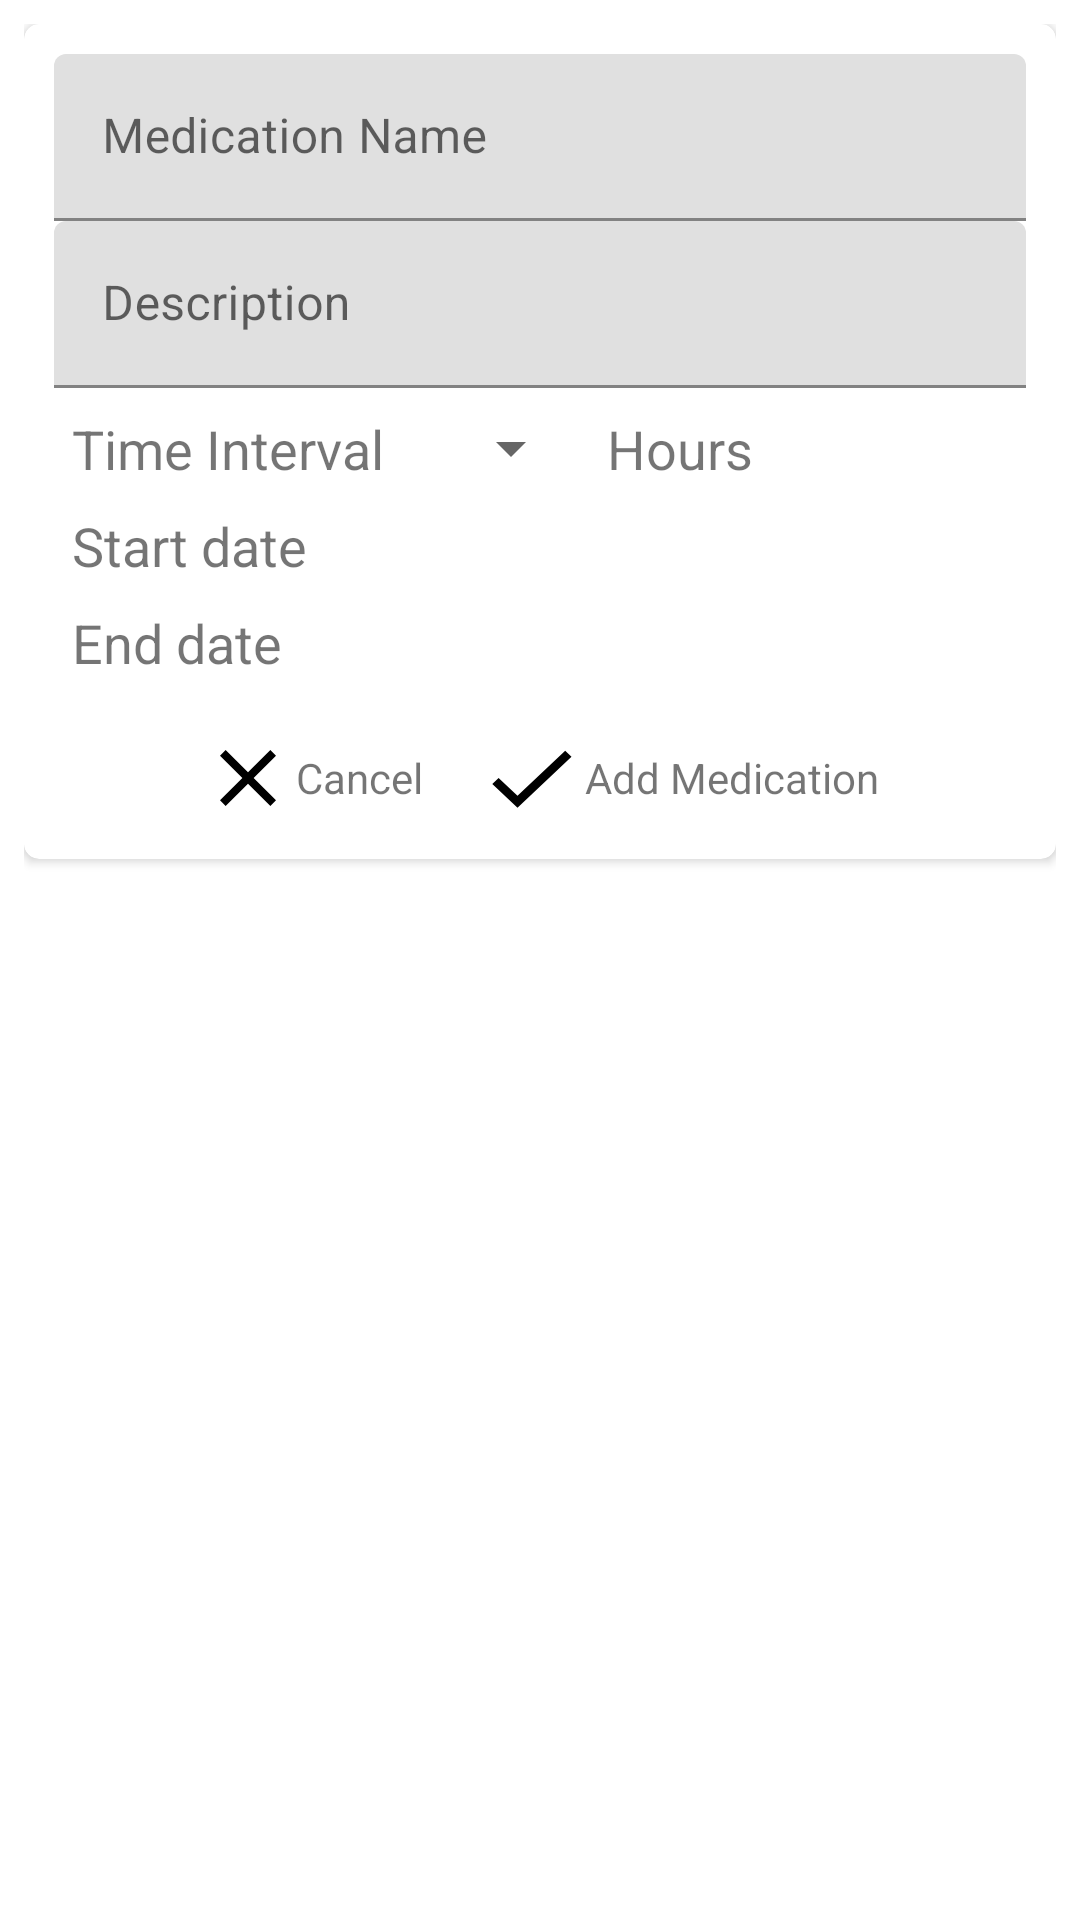

Point at icon controls on the screen. Image size 1080w x 1920h, points as point (x, y).
close: point (248, 778)
done: point (532, 779)
